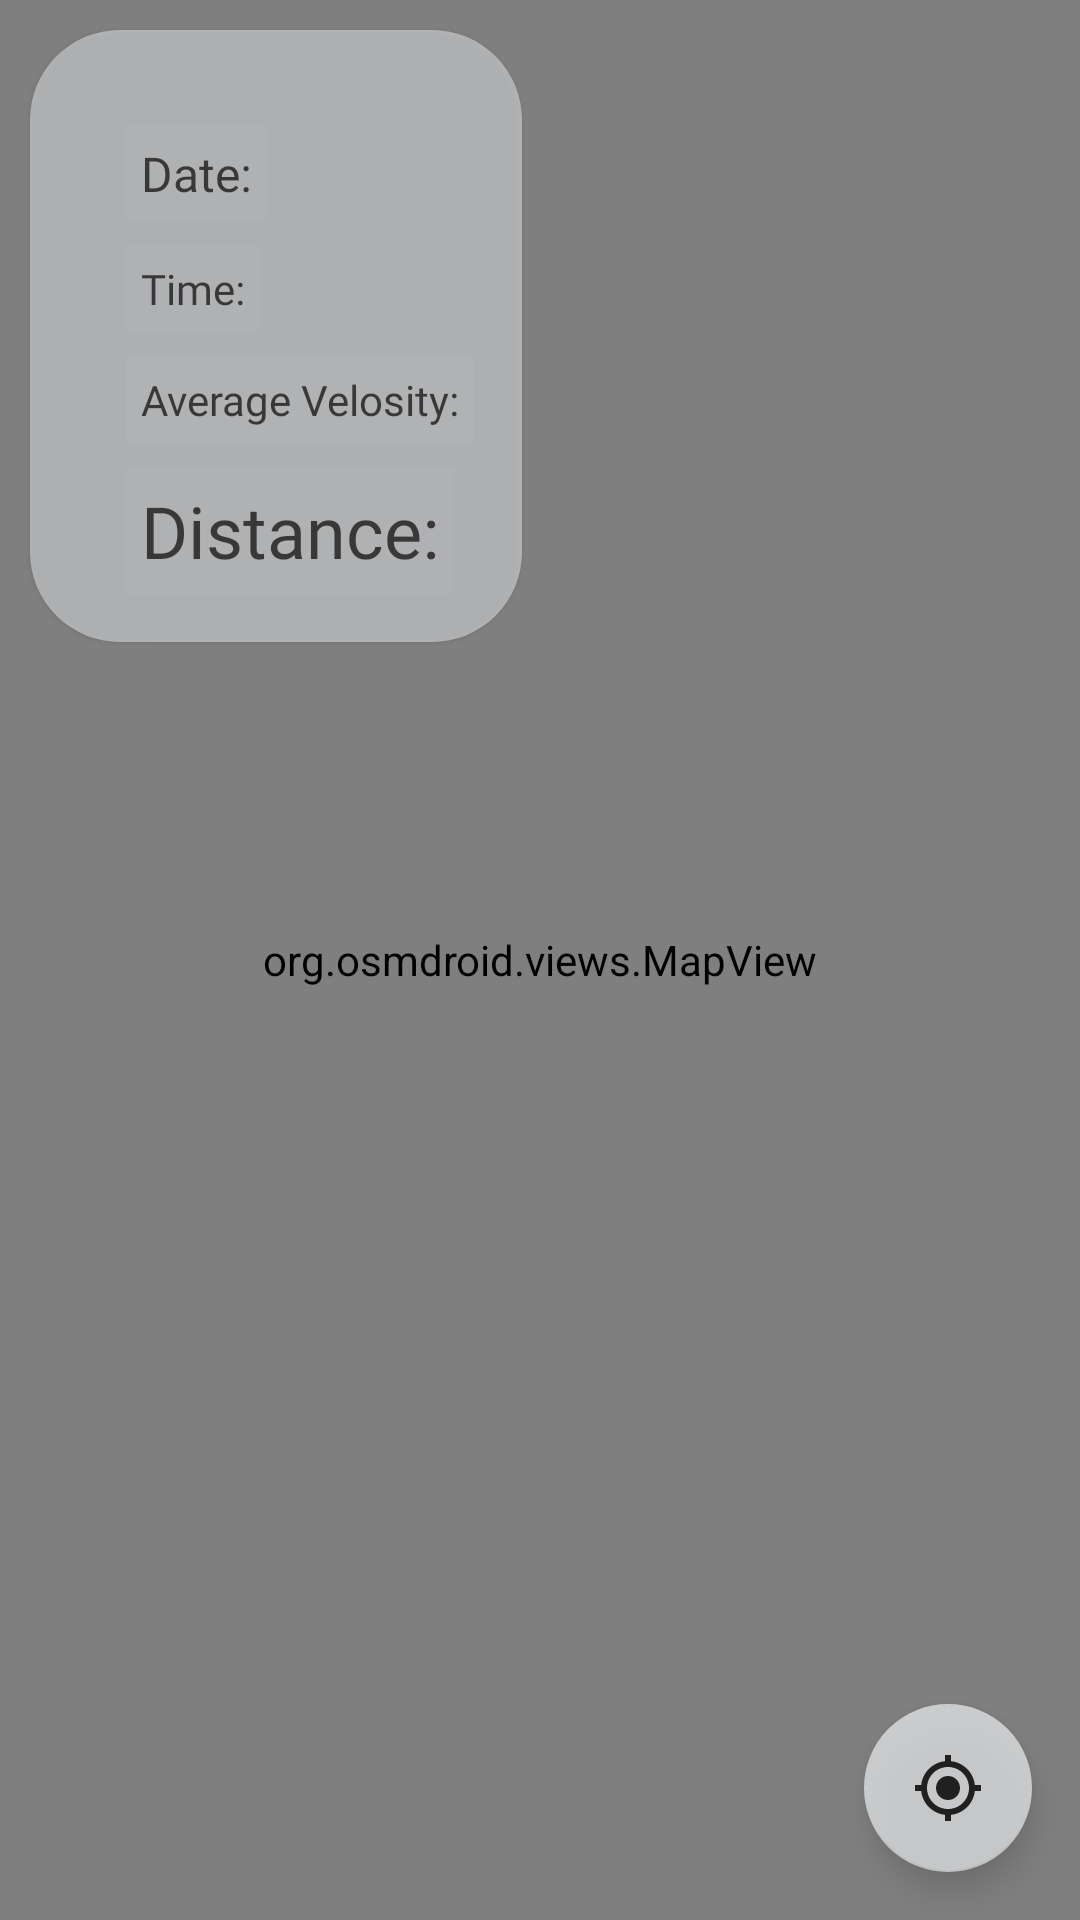

Screen size 1080 x 1920. Icon name, then its center in pixels as [x,y]:
loc: [948,1788]
